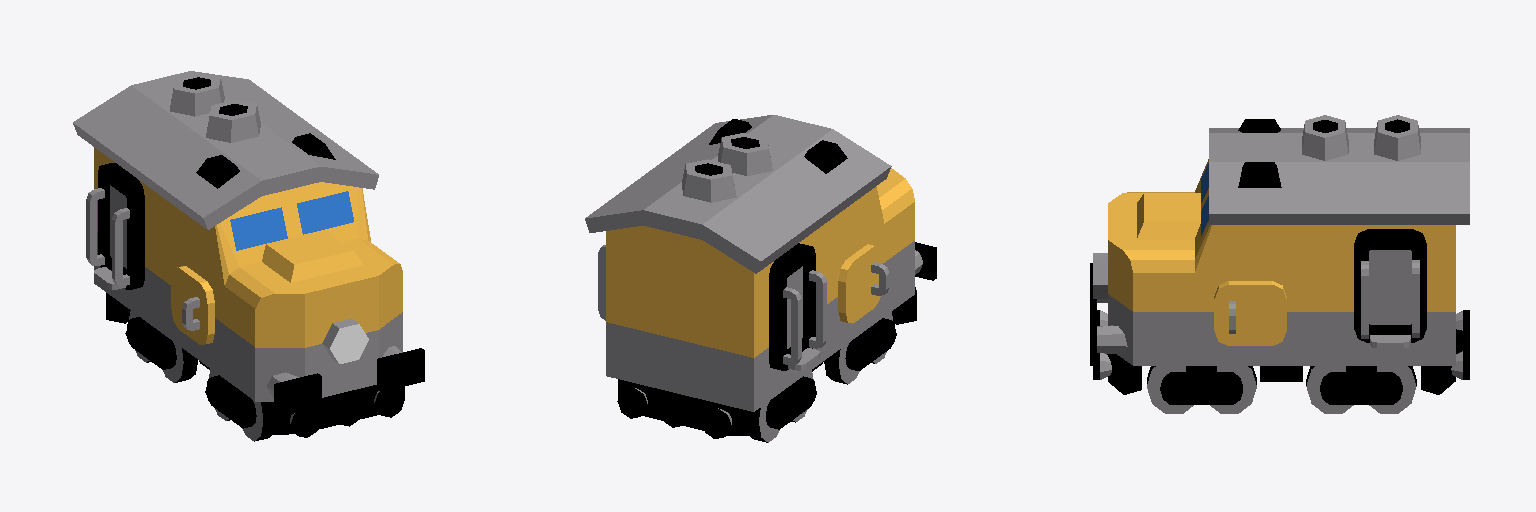
The picture shows the model from 3 angles: view 1: azimuth 30°, elevation 25°; view 2: azimuth 150°, elevation 25°; view 3: azimuth 270°, elevation 25°; orthographic projection.
Parts seen in each view (by area): view 1: train-diesel-box-a; view 2: train-diesel-box-a; view 3: train-diesel-box-a.
Boxes of the visible parts, <box> form: train-diesel-box-a: <box>73,71,424,441</box>; train-diesel-box-a: <box>585,115,936,442</box>; train-diesel-box-a: <box>1090,115,1469,413</box>.
Size of the model in its own units: 0.54 by 0.6699 by 0.8919.
1 materials, 1 textured.